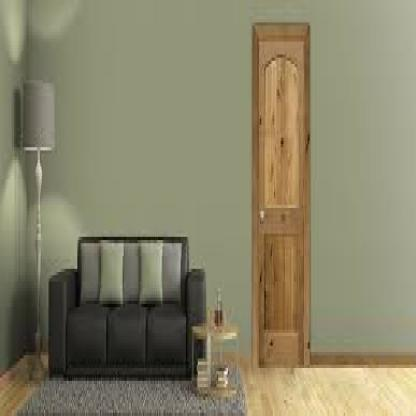door: (252, 26, 310, 355)
